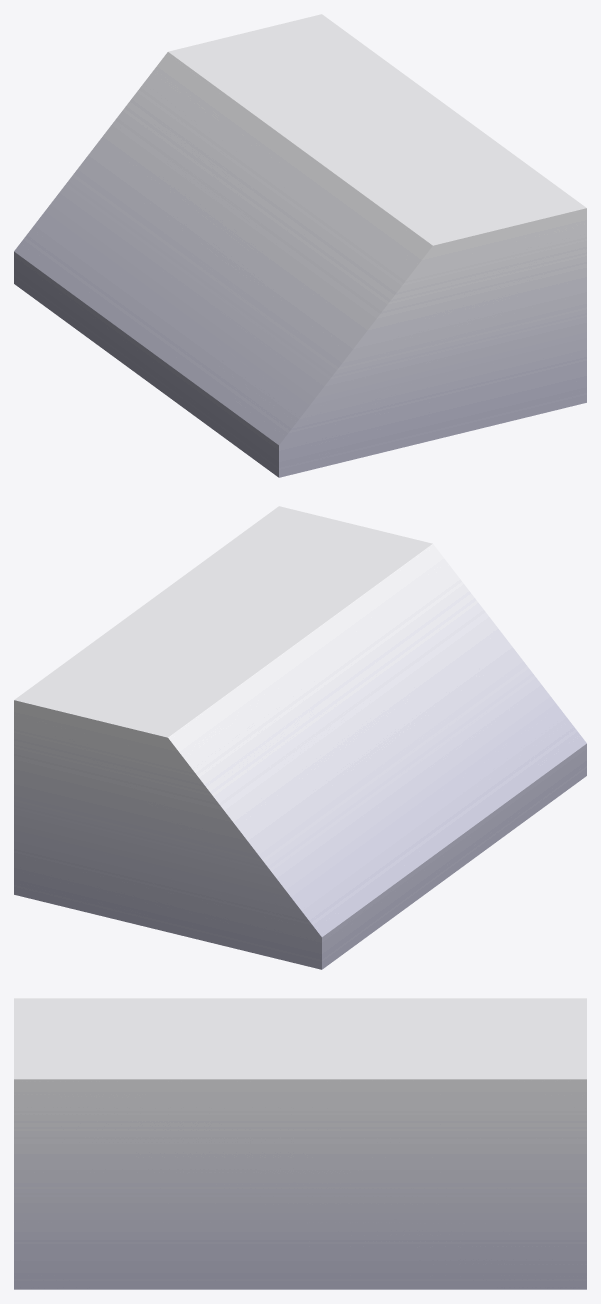
The model's file is brick-kit--none-lq-brick-slope-2x3.glb.
3 views of the same model, one above another, from view 1: azimuth 30°, elevation 25°; view 2: azimuth 150°, elevation 25°; view 3: azimuth 270°, elevation 25° (orthographic). The views are drawn at different scales.
Parts seen in each view (by area): view 1: none-lq-brick-slope-2x3; view 2: none-lq-brick-slope-2x3; view 3: none-lq-brick-slope-2x3.
Part boxes in pixels (box(x1,y1,x2,y2)): none-lq-brick-slope-2x3: box(14, 14, 586, 477); none-lq-brick-slope-2x3: box(14, 506, 586, 969); none-lq-brick-slope-2x3: box(14, 998, 586, 1289).
Bounding box in the file's own units: 0.159 × 0.096 × 0.237.
Materials: 1 (1 with a texture image).
